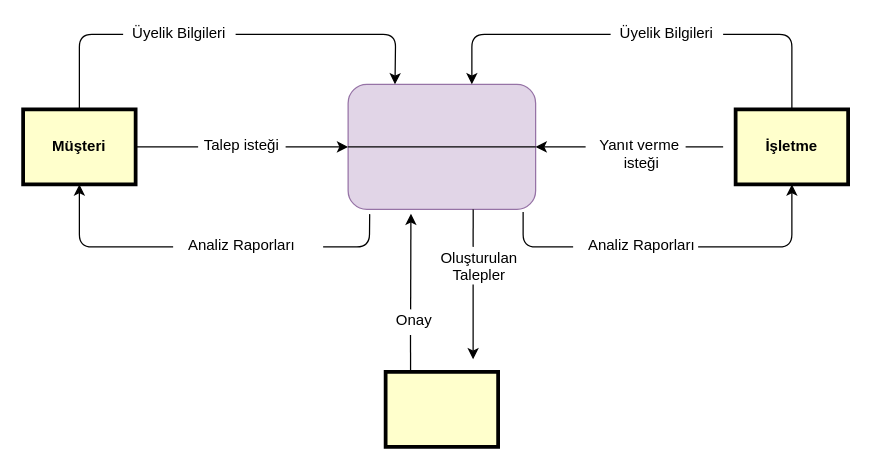
The diagram is 871 pixels wide and 470 high, and some of its shapes have lost their labels. The centre of each missing label's shape, as x and y in pixels:
"0 Burada Yok Platformu" goes at point 441,146.
"Devlet" goes at point 441,408.
